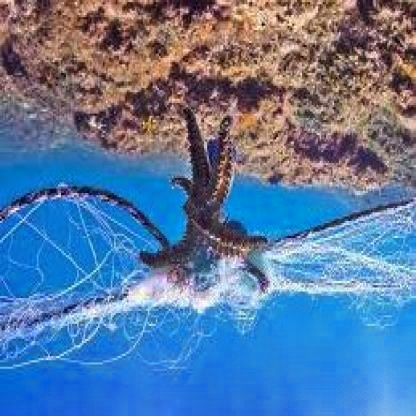net: (0, 172, 416, 384)
